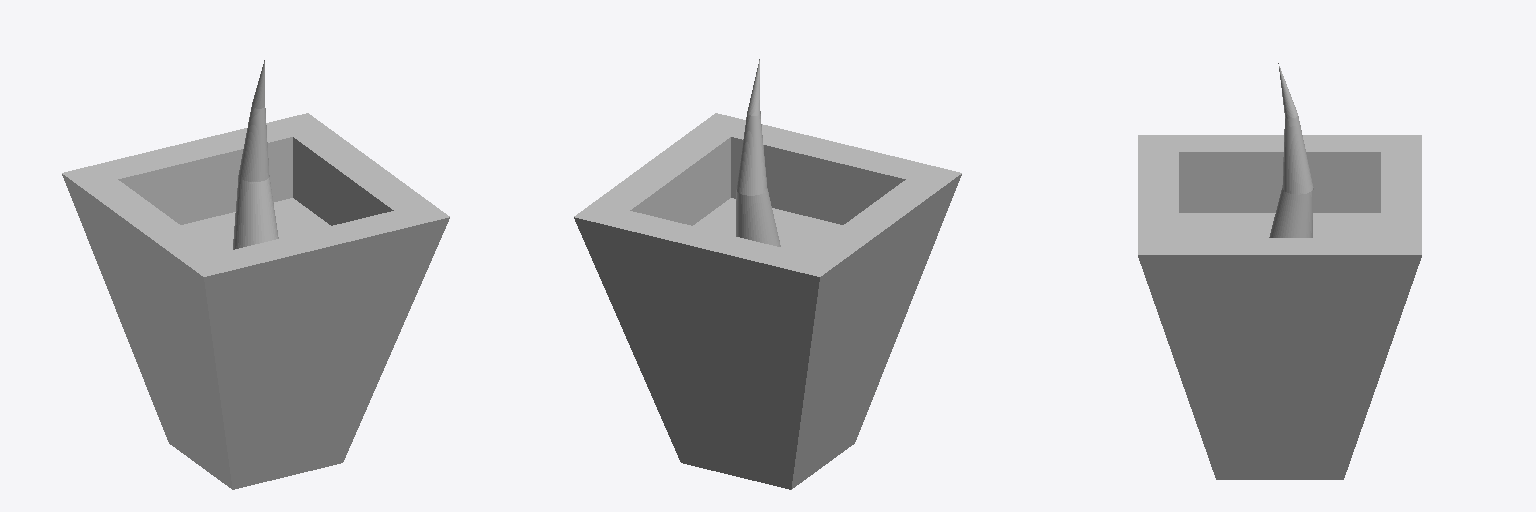
File: prantinha 01_000004.obj
3 renders of one model, left to right at view 1: azimuth 30°, elevation 25°; view 2: azimuth 150°, elevation 25°; view 3: azimuth 270°, elevation 25°, orthographic.
Parts seen in each view (by area): view 1: Cube, NurbsPath; view 2: Cube, NurbsPath; view 3: Cube, NurbsPath.
Boxes of the visible parts, <box> form: Cube: <box>62,113,449,489</box>; NurbsPath: <box>233,60,278,249</box>; Cube: <box>574,113,961,489</box>; NurbsPath: <box>736,59,780,246</box>; Cube: <box>1138,135,1421,479</box>; NurbsPath: <box>1269,63,1313,237</box>.
Bounding box in the file's own units: 1.04 × 1.59 × 1.04.